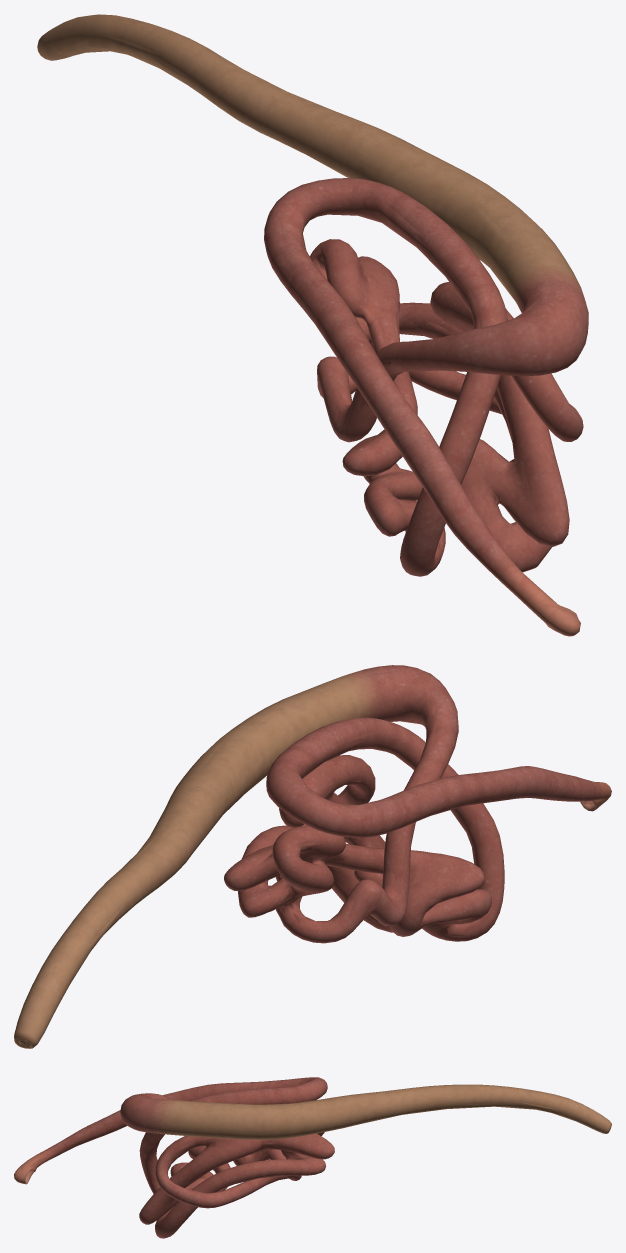
File: Intestines.fbx
3 renders of one model, top to bottom at view 1: azimuth 30°, elevation 25°; view 2: azimuth 150°, elevation 25°; view 3: azimuth 270°, elevation 25°, orthographic. The views are drawn at different scales.
Parts seen in each view (by area): view 1: Intestines, Intestines low, Intestines high; view 2: Intestines, Intestines low, Intestines high; view 3: Intestines, Intestines low, Intestines high.
Boxes of the visible parts, x1=… form: Intestines: x1=37, y1=14, x2=588, y2=636; Intestines low: x1=58, y1=35, x2=578, y2=627; Intestines high: x1=47, y1=29, x2=583, y2=635; Intestines: x1=14, y1=665, x2=611, y2=1048; Intestines low: x1=18, y1=670, x2=604, y2=1046; Intestines high: x1=18, y1=671, x2=606, y2=1047; Intestines: x1=14, y1=1077, x2=611, y2=1238; Intestines low: x1=25, y1=1077, x2=584, y2=1223; Intestines high: x1=14, y1=1078, x2=593, y2=1228.
Size of the model in its own units: 17.27 by 20.22 by 73.69.
Materials: 1 (1 with a texture image).
